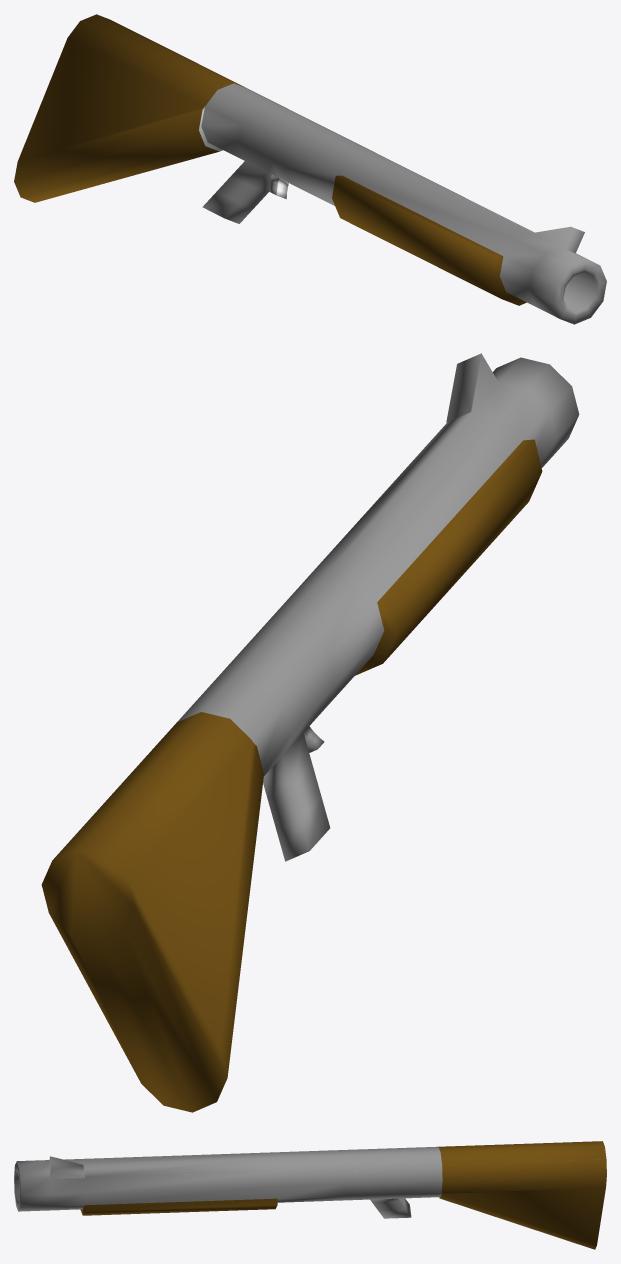
The model's file is escopeta_posada_para_perro.fbx.
The picture shows the model from 3 angles, top to bottom: view 1: azimuth 30°, elevation 25°; view 2: azimuth 150°, elevation 25°; view 3: azimuth 270°, elevation 25°; orthographic projection. The views are drawn at different scales.
Visible parts, largest first — view 1: Cylinder; view 2: Cylinder; view 3: Cylinder.
Part boxes in pixels (bbox=[...]): Cylinder: bbox=[14, 14, 606, 324]; Cylinder: bbox=[41, 353, 579, 1112]; Cylinder: bbox=[14, 1141, 606, 1249].
Bounding box in the file's own units: 33.52 × 30.86 × 111.
Materials: 1 (1 with a texture image).
